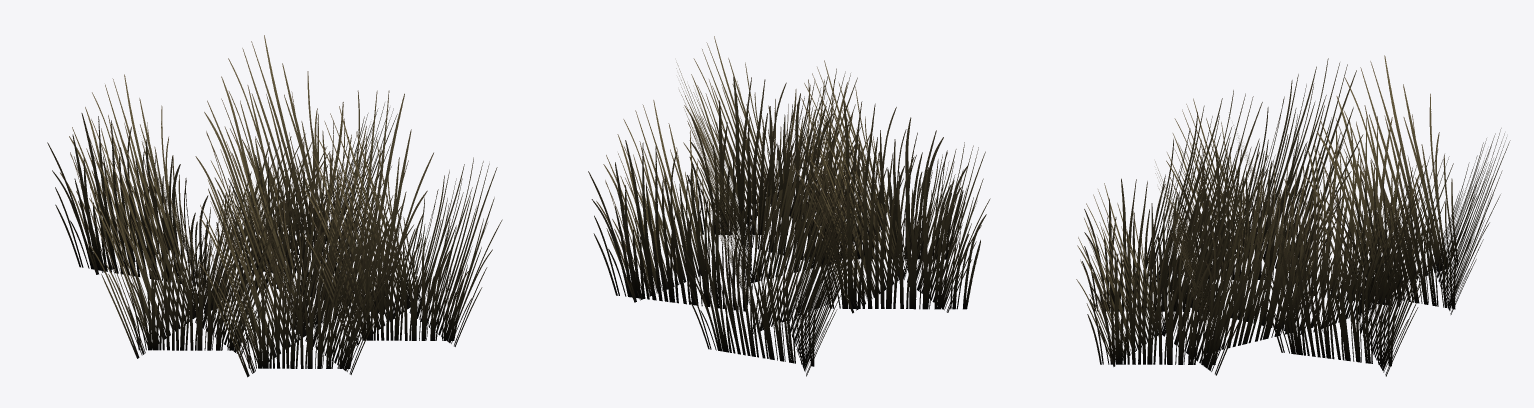
File: scenery-1.glb
3 renders of one model, left to right at view 1: azimuth 30°, elevation 25°; view 2: azimuth 150°, elevation 25°; view 3: azimuth 270°, elevation 25°, orthographic.
Size of the model in its own units: 5.74 by 2.71 by 6.09.
Materials: 1 (1 with a texture image).
